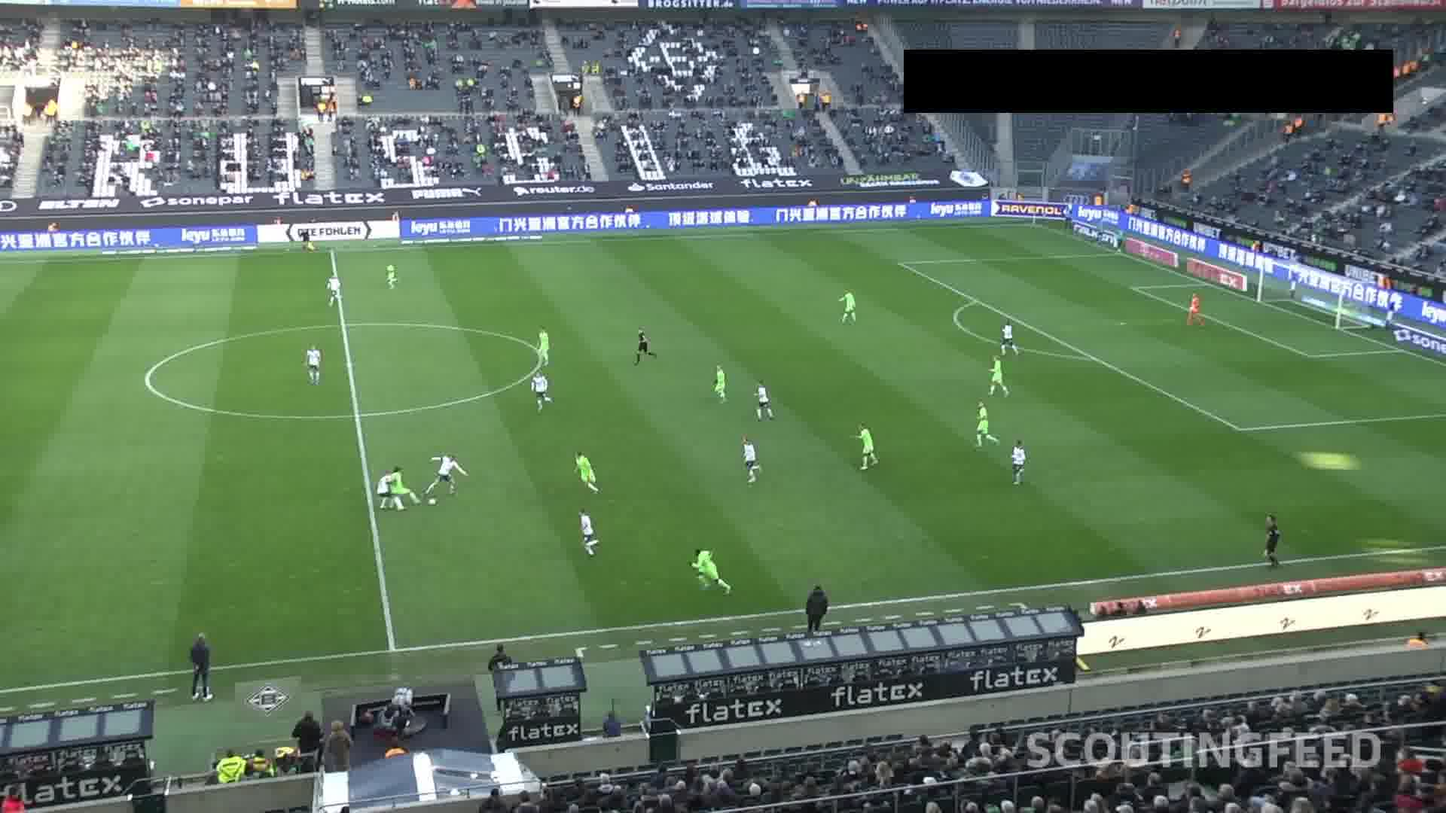ball: (428, 497, 439, 514)
coach_staff: (486, 640, 526, 706), (183, 627, 216, 705), (795, 572, 825, 646)
goalkeeper: (1181, 281, 1210, 331)
player: (689, 542, 729, 592), (422, 447, 464, 492), (388, 462, 419, 516), (572, 447, 605, 497), (968, 394, 995, 447), (983, 356, 1017, 398), (574, 507, 601, 558), (851, 419, 877, 469), (370, 468, 394, 517), (737, 435, 761, 483), (709, 361, 733, 409), (1002, 316, 1028, 359), (527, 371, 551, 417), (752, 379, 777, 422), (1008, 435, 1028, 482), (837, 286, 857, 329), (301, 341, 320, 385), (326, 271, 346, 309), (383, 256, 402, 296), (536, 324, 554, 364)
referee: (1256, 509, 1287, 571), (634, 325, 653, 369), (296, 226, 318, 250)
